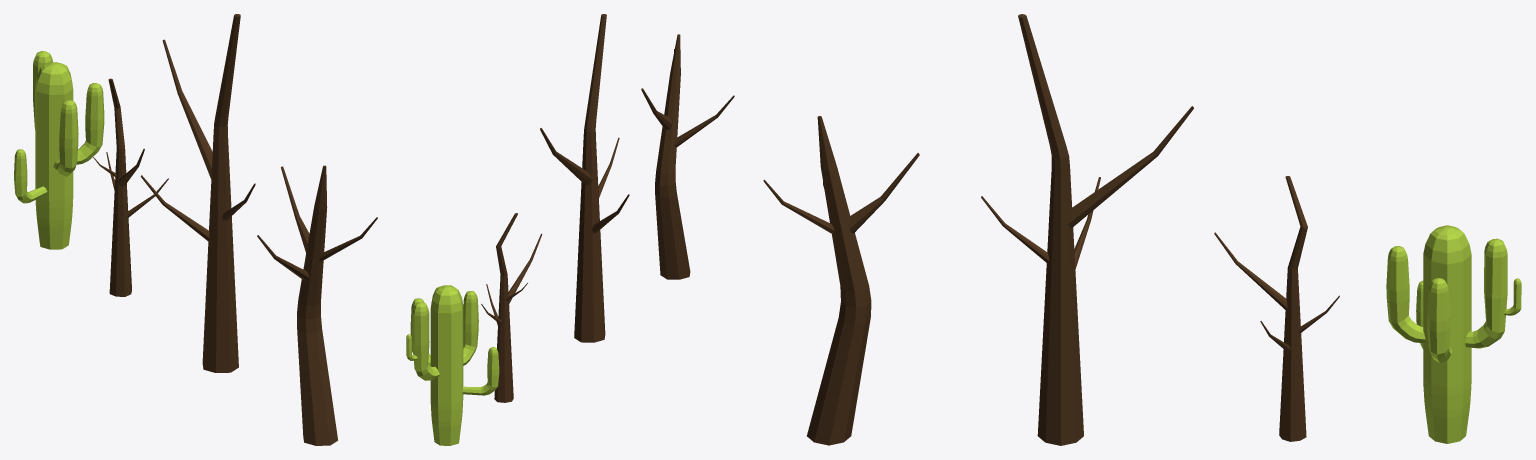
File: Test Trees.fbx
The picture shows the model from 3 angles, left to right: view 1: azimuth 30°, elevation 25°; view 2: azimuth 150°, elevation 25°; view 3: azimuth 270°, elevation 25°; orthographic projection. The views are drawn at different scales.
Parts seen in each view (by area): view 1: Cube.013, Cube.002, Cube.005, Cube.004; view 2: Cube.013, Cube.002, Cube.005, Cube.004; view 3: Cube.013, Cube.002, Cube.005, Cube.004.
Part boxes in pixels (<box>): Cube.013: <box>14,51,104,249</box>; Cube.002: <box>140,14,255,372</box>; Cube.005: <box>257,165,377,445</box>; Cube.004: <box>93,78,168,296</box>; Cube.013: <box>406,285,499,445</box>; Cube.002: <box>540,14,629,342</box>; Cube.005: <box>641,34,734,279</box>; Cube.004: <box>481,213,542,402</box>; Cube.013: <box>1386,225,1521,443</box>; Cube.002: <box>981,14,1193,445</box>; Cube.005: <box>763,116,919,445</box>; Cube.004: <box>1214,176,1339,441</box>.
Size of the model in its own units: 981 by 194 by 600.
